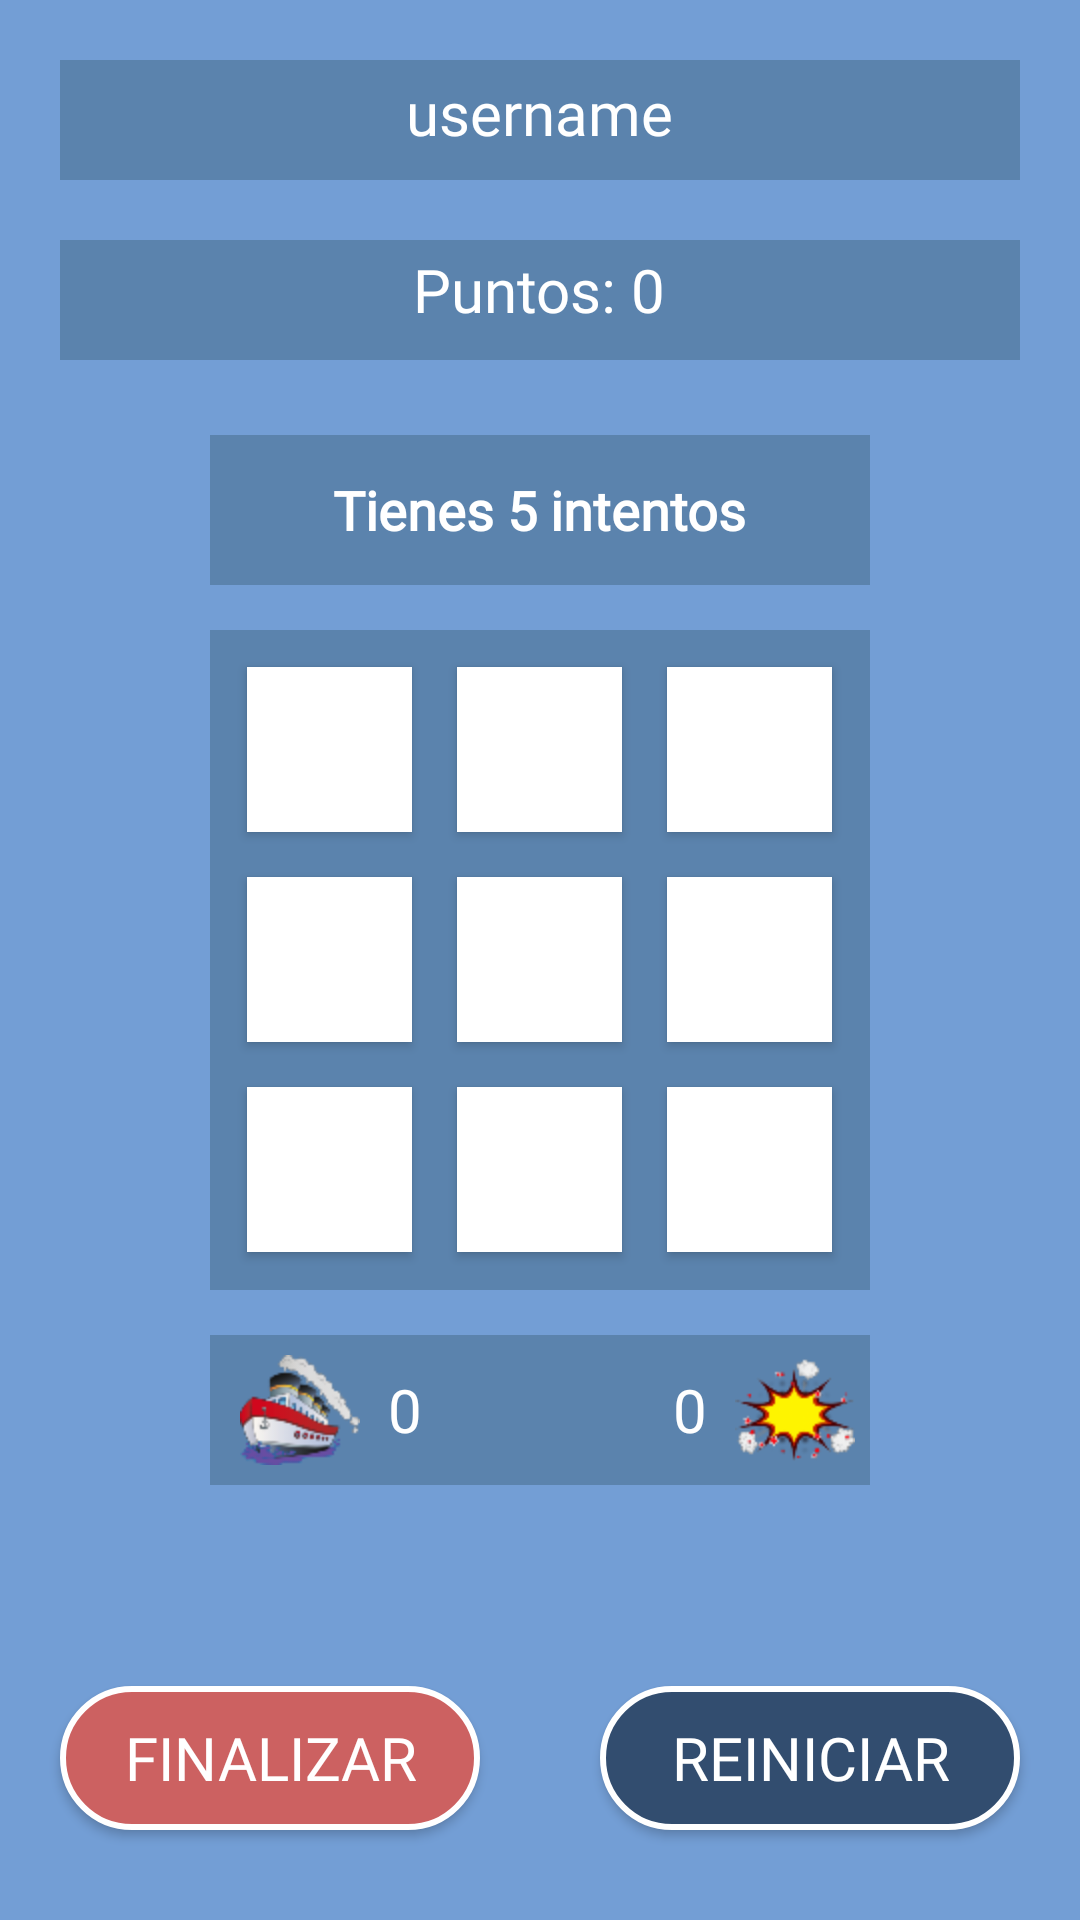

Point at icon controls on the screen. Image size 1080 x 1920, points as [x,y].
barco: [300,1410]
explosion: [795,1409]
